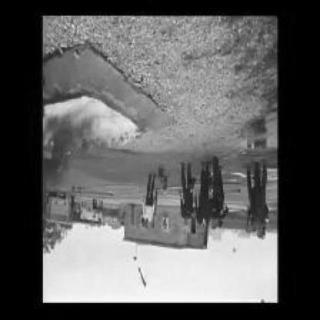Smoke: (41, 95, 145, 169)
